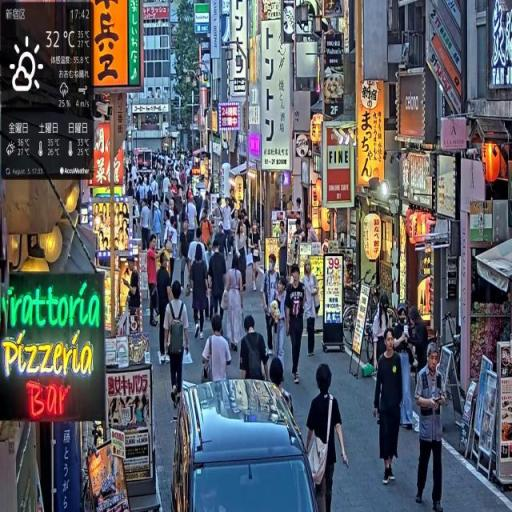person: (304, 363, 349, 512), (415, 343, 448, 512), (374, 327, 405, 488), (164, 281, 193, 412), (286, 261, 307, 386), (223, 257, 246, 358), (202, 314, 233, 381), (156, 253, 174, 365), (240, 315, 269, 382), (263, 258, 281, 359), (302, 260, 320, 359), (191, 248, 211, 337), (209, 241, 228, 323), (146, 236, 160, 328), (141, 199, 153, 255)
